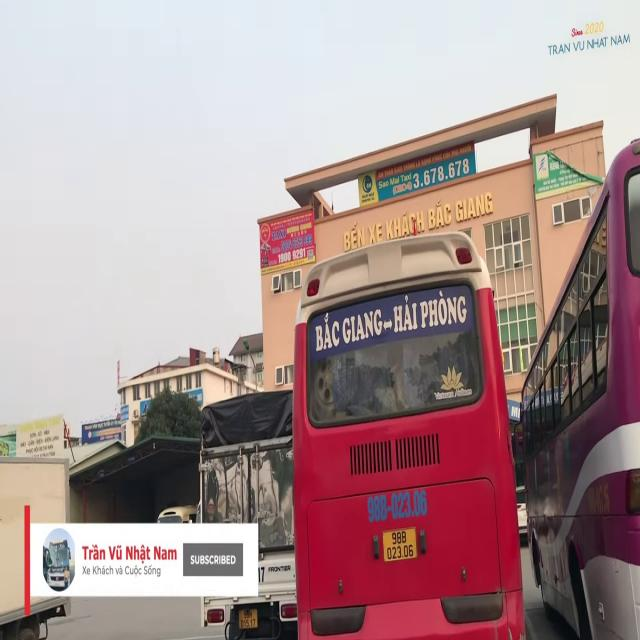bien_vang: (380, 526, 419, 566)
